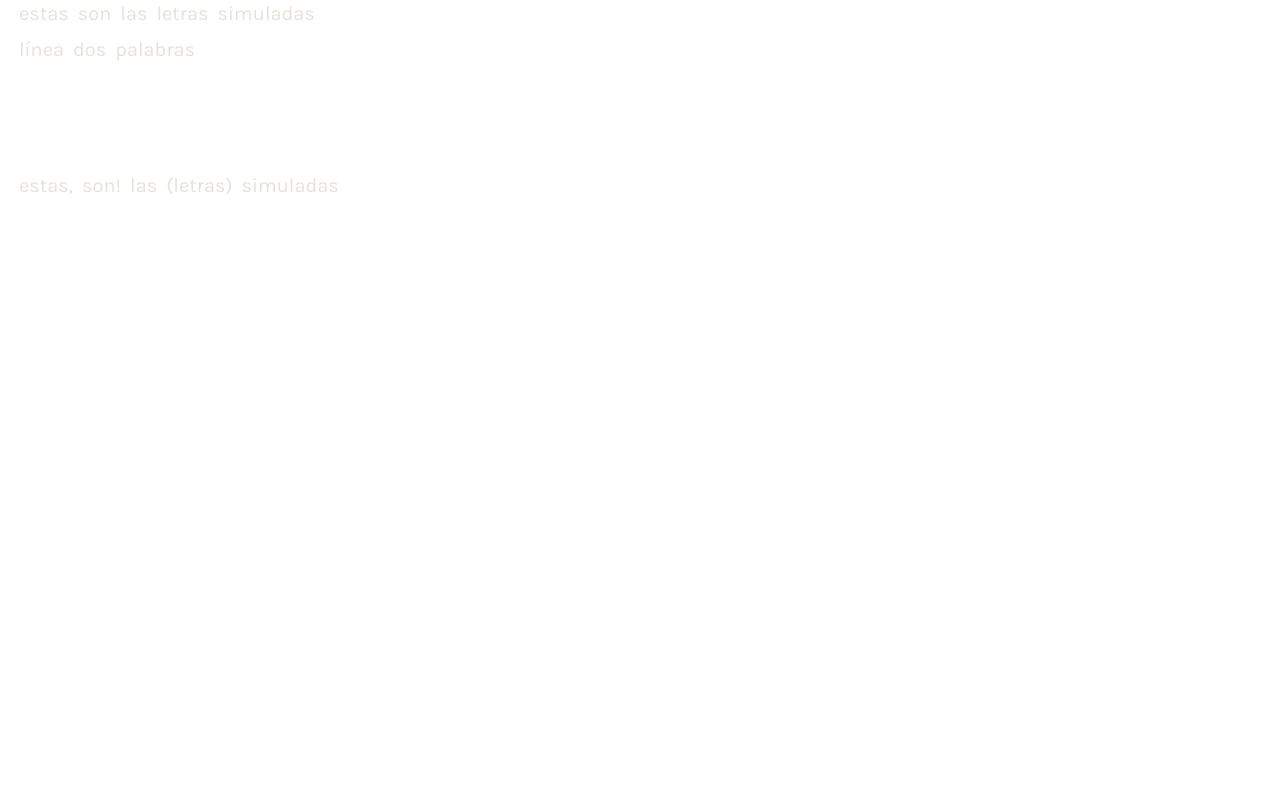
it: TranslationPanel › trims punctuation from clicked word
The image size is (1280, 800).
Click the text "estas,": {"x": 46, "y": 186} x1=19 y1=174 x2=73 y2=197
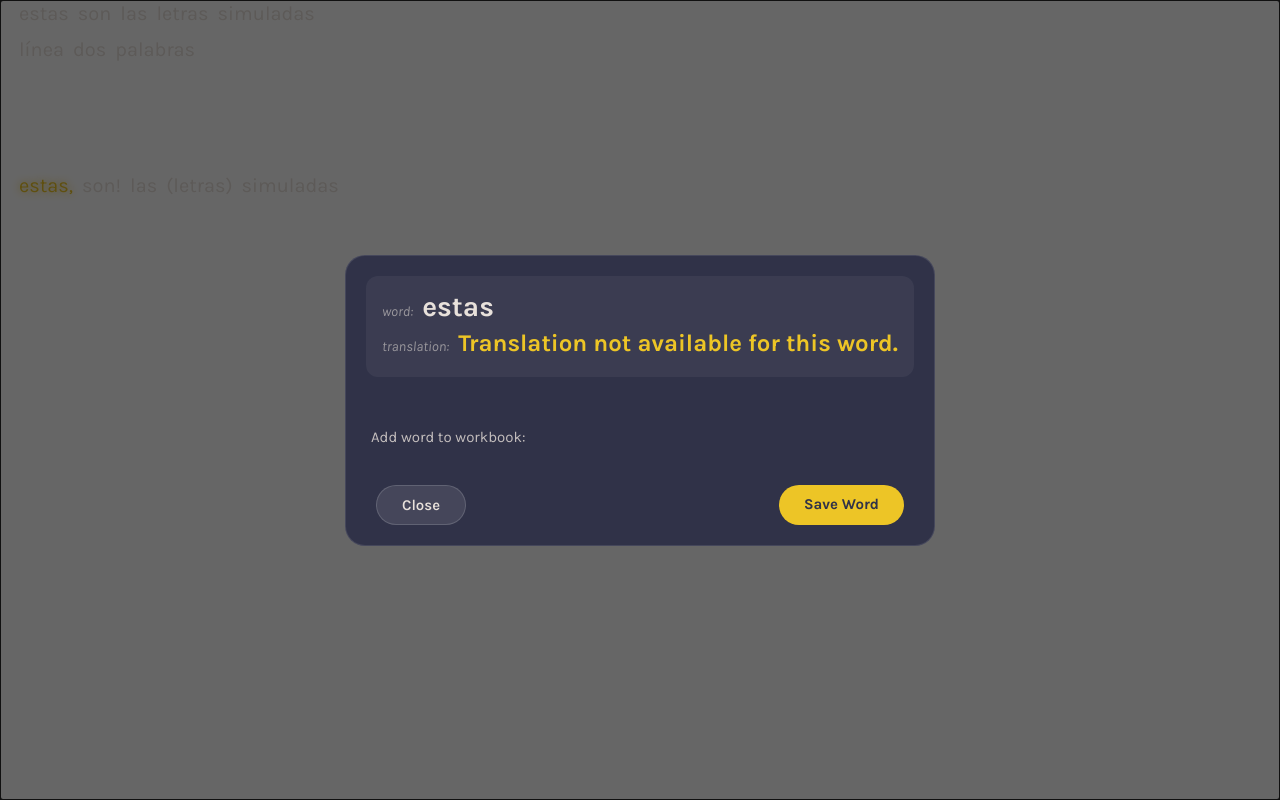
Now the text "estas" is shown 2 times, box x1=19 y1=2 x2=69 y2=25; x1=422 y1=290 x2=494 y2=322
